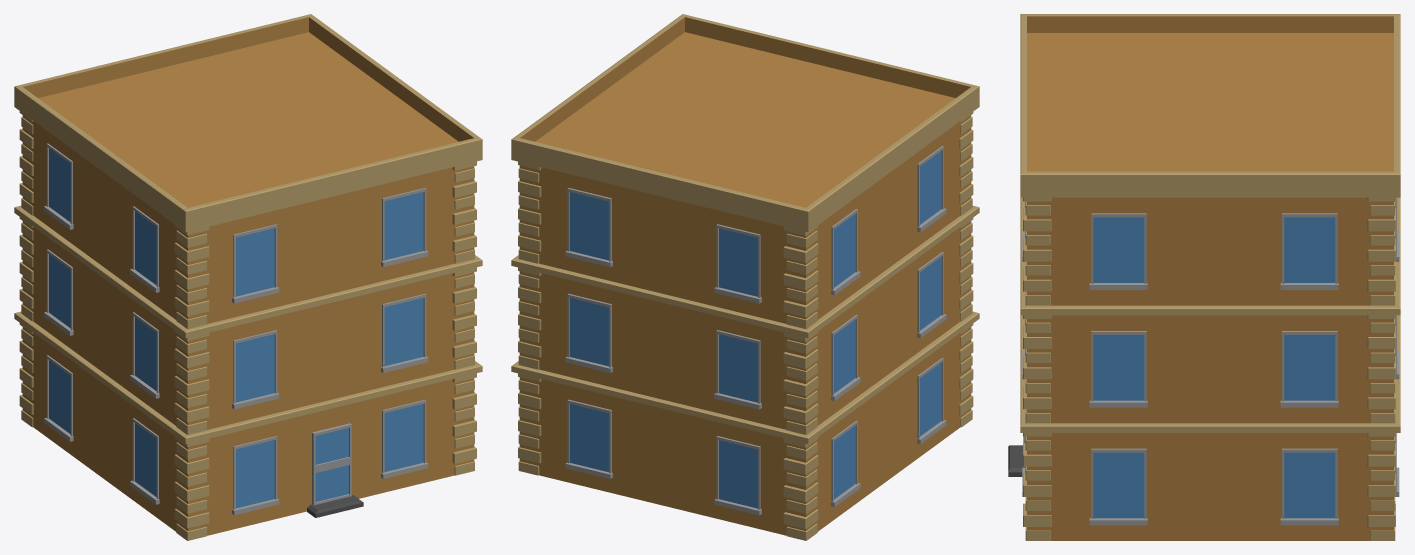
The model's file is GebouwGeelLaagZonderTrap.fbx.
The picture shows the model from 3 angles, left to right: view 1: azimuth 30°, elevation 25°; view 2: azimuth 150°, elevation 25°; view 3: azimuth 270°, elevation 25°; orthographic projection. The views are drawn at different scales.
Parts seen in each view (by area): view 1: gebouwGeelLaagZonderTrap; view 2: gebouwGeelLaagZonderTrap; view 3: gebouwGeelLaagZonderTrap.
Boxes of the visible parts, x1,y1,x2,y2 form: gebouwGeelLaagZonderTrap: [14, 14, 482, 540]; gebouwGeelLaagZonderTrap: [511, 14, 979, 540]; gebouwGeelLaagZonderTrap: [1008, 14, 1400, 540].
Bounding box in the file's own units: 622 × 667 × 642.
